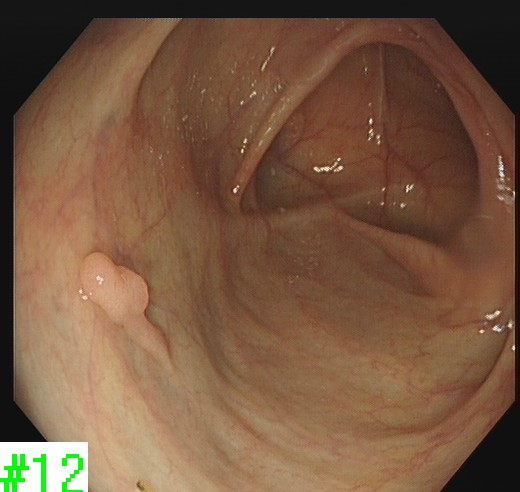adenoma: (76, 249, 176, 378)
